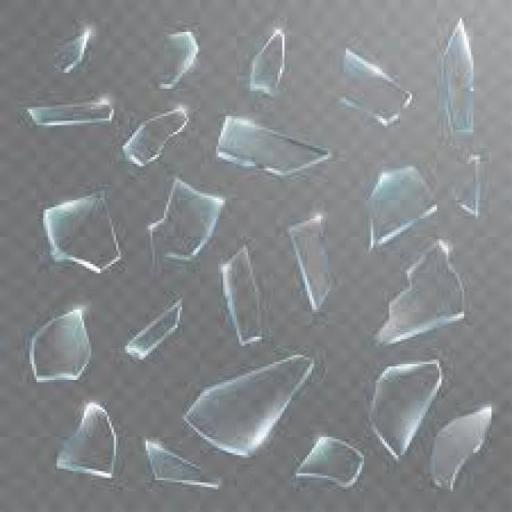glass: (276, 194, 405, 360), (184, 352, 314, 458), (126, 69, 240, 184), (273, 325, 368, 436), (28, 86, 139, 179), (372, 239, 464, 349), (366, 359, 444, 462), (244, 62, 342, 140), (42, 188, 124, 276), (218, 116, 330, 180), (148, 178, 223, 268), (364, 166, 438, 252), (337, 46, 412, 128), (238, 18, 302, 112), (427, 404, 495, 491), (54, 400, 120, 481), (174, 430, 266, 488), (28, 306, 93, 383), (219, 245, 266, 348), (26, 284, 98, 351), (436, 19, 475, 141), (288, 215, 334, 318), (121, 106, 189, 168), (143, 438, 223, 490), (124, 294, 185, 362), (33, 20, 96, 82), (288, 294, 334, 376), (25, 96, 113, 129), (258, 336, 313, 387), (156, 30, 200, 90), (447, 154, 485, 219), (146, 220, 166, 274), (421, 156, 444, 192), (306, 198, 329, 226), (316, 214, 330, 246), (36, 258, 54, 273)
